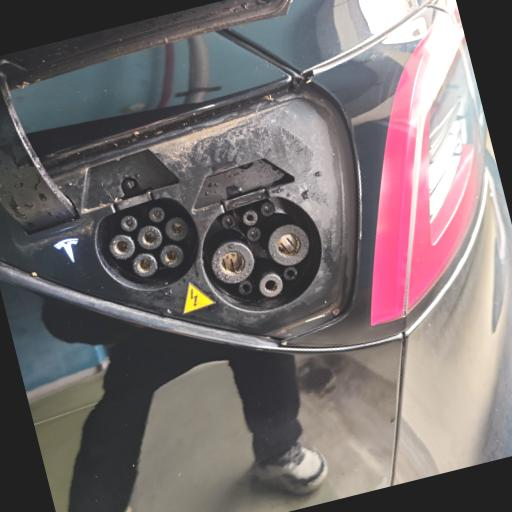AC_charging_hole: (86, 188, 212, 303)
DC_charging_port: (188, 184, 338, 328)
DC_hole: (262, 218, 316, 273), (206, 236, 260, 290)
PE: (256, 270, 286, 300)
